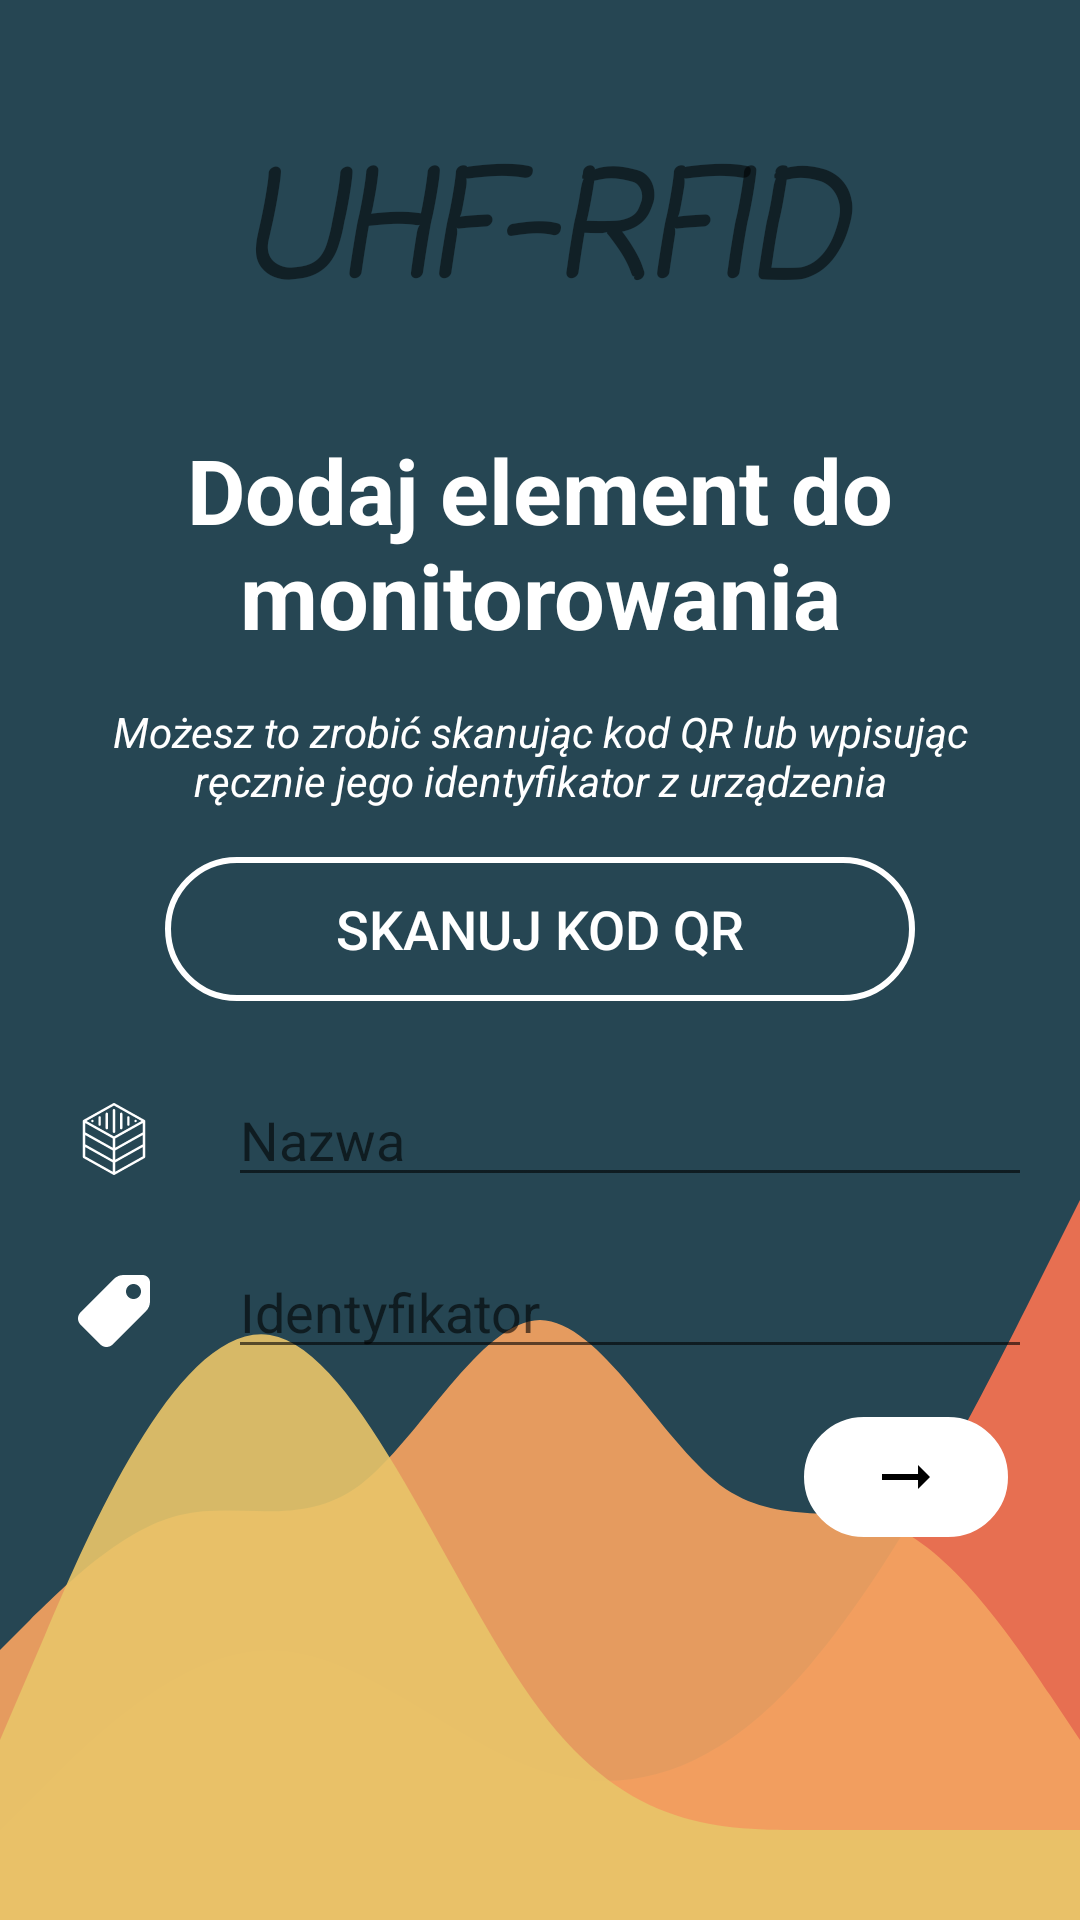

Screen size 1080 x 1920. Icon name, then its center in pixels as (x,y):
arrow right: (906,1477)
price tag: (114,1311)
